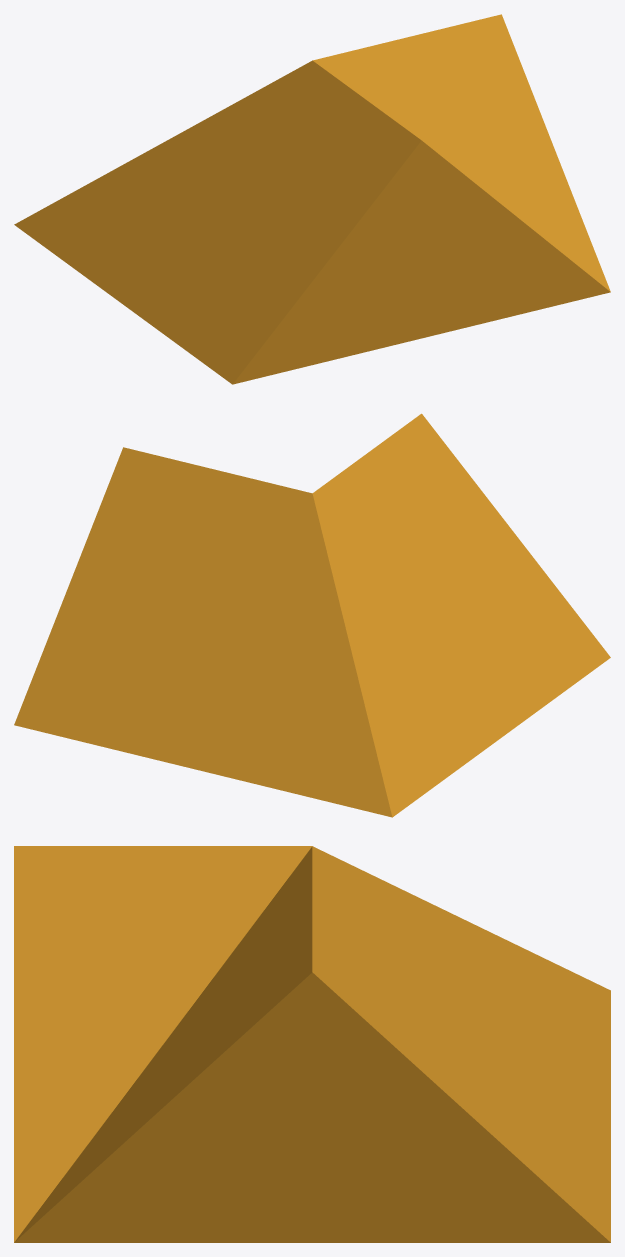
Rendered from Roof-Mid-4x4x2-Gable-Corner.FBX.
3 renders of one model, top to bottom at view 1: azimuth 30°, elevation 25°; view 2: azimuth 150°, elevation 25°; view 3: azimuth 270°, elevation 25°, orthographic. The views are drawn at different scales.
Parts seen in each view (by area): view 1: Roof-Mid-4x4x2-Gable-Corner; view 2: Roof-Mid-4x4x2-Gable-Corner; view 3: Roof-Mid-4x4x2-Gable-Corner.
Boxes of the visible parts, <box> form: Roof-Mid-4x4x2-Gable-Corner: <box>14,14,610,384</box>; Roof-Mid-4x4x2-Gable-Corner: <box>14,413,610,817</box>; Roof-Mid-4x4x2-Gable-Corner: <box>14,846,610,1242</box>.
Bounding box in the file's own units: 40 × 40 × 20.
